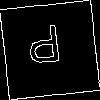P: (25, 24, 64, 73)
